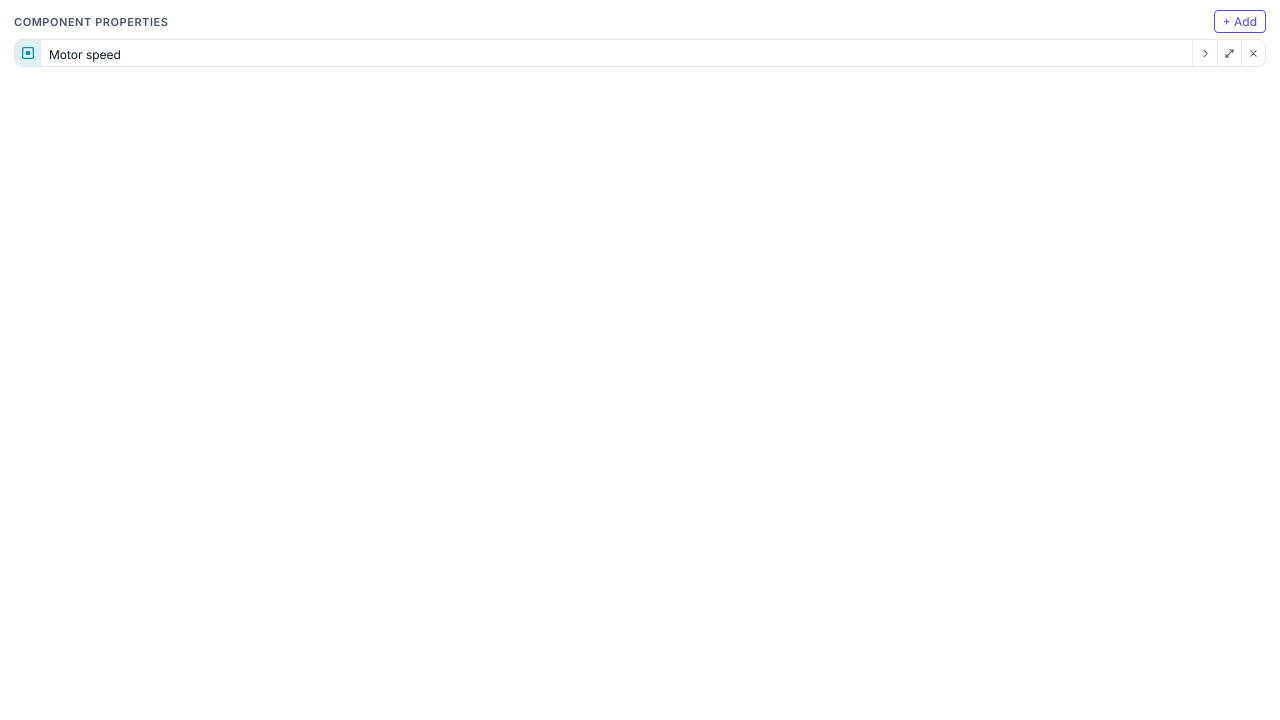
Test case: ComponentPropertiesEditor › states the key and type but does not offer them for editing
The image size is (1280, 720).
Click the text "Motor speed" at x=85, y=54, box left=49, top=47, right=121, bottom=62
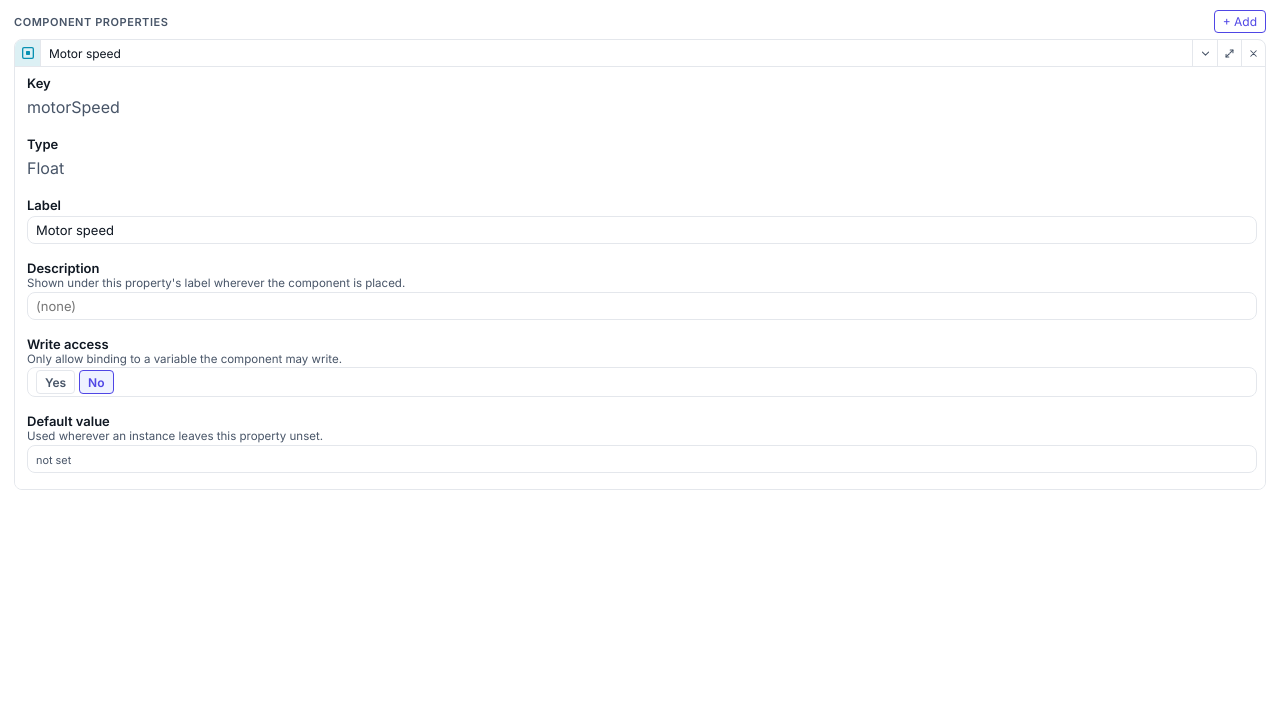
Expected: the text "motorSpeed" is shown, left=27, top=97, right=120, bottom=117
Expected: the text "Float" is shown, left=27, top=158, right=64, bottom=178
